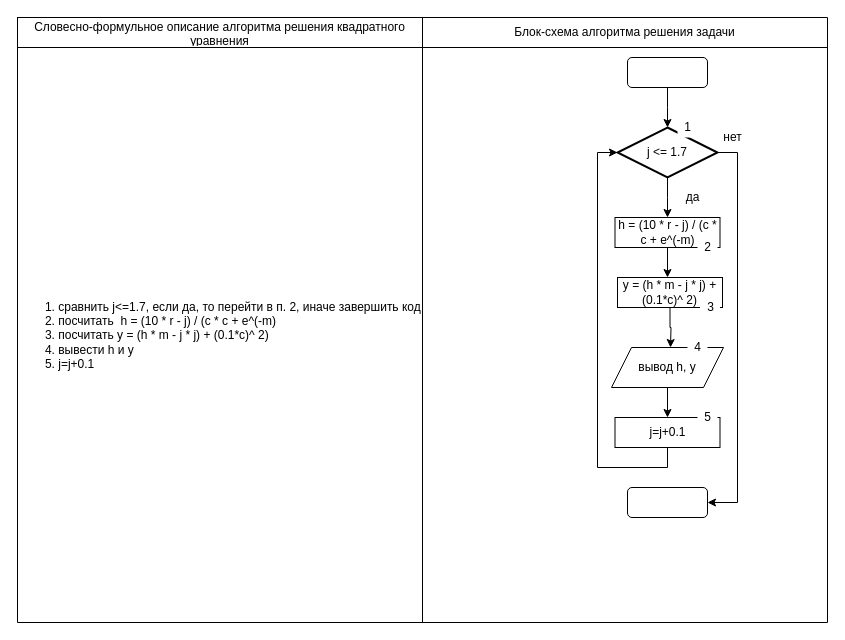
Some shapes in this 845 by 640 pixel diagram are drawn without their labels. The centre of each missing label's shape, as x and y in pixels:
"конец" goes at (667,502).
"начало" goes at (667,72).
